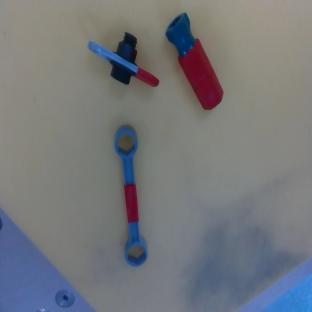part_1_good: (86, 21, 161, 106)
part_2_good: (161, 12, 229, 113)
part_3_good: (113, 124, 149, 267)
